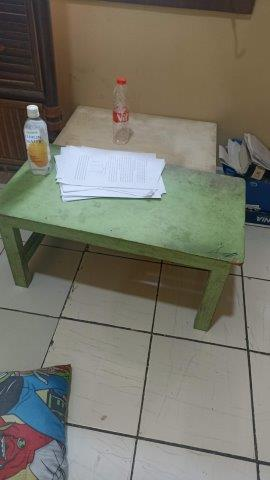botolplastik: (24, 105, 52, 181), (110, 77, 131, 142)
kertas: (52, 145, 168, 204)
